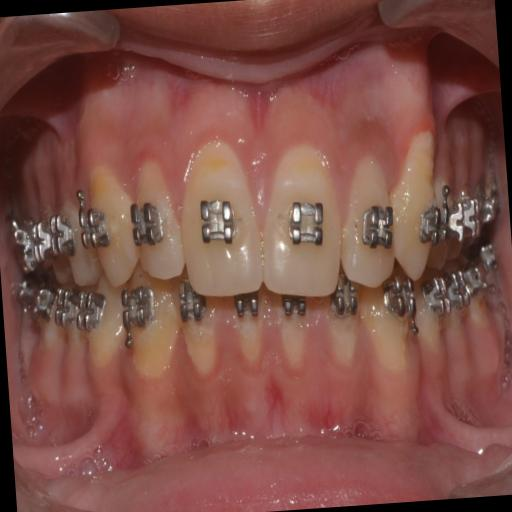correct_brace: (284, 191, 328, 254), (196, 190, 238, 254)
